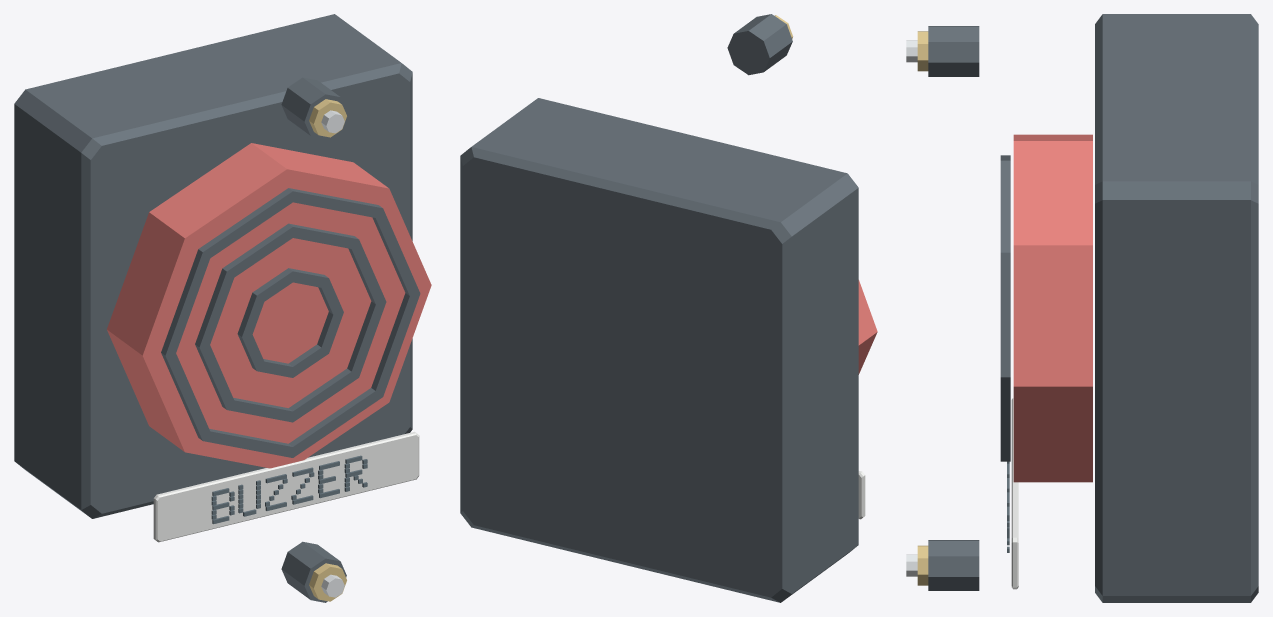
Rendered from buzzer.glb.
3 renders of one model, left to right at view 1: azimuth 30°, elevation 25°; view 2: azimuth 150°, elevation 25°; view 3: azimuth 270°, elevation 25°, orthographic. The views are drawn at different scales.
Parts seen in each view (by area): view 1: buzzer-board; view 2: buzzer-board; view 3: buzzer-board.
Boxes of the visible parts, x1,y1,x2,y2 form: buzzer-board: [14, 14, 431, 602]; buzzer-board: [460, 14, 877, 602]; buzzer-board: [906, 14, 1258, 602].
Size of the model in its own units: 1.5 by 2.19 by 1.24.
